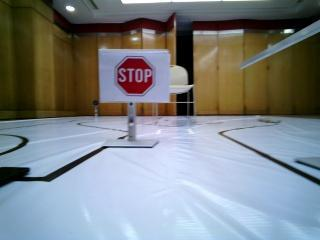stop: (95, 50, 168, 102)
